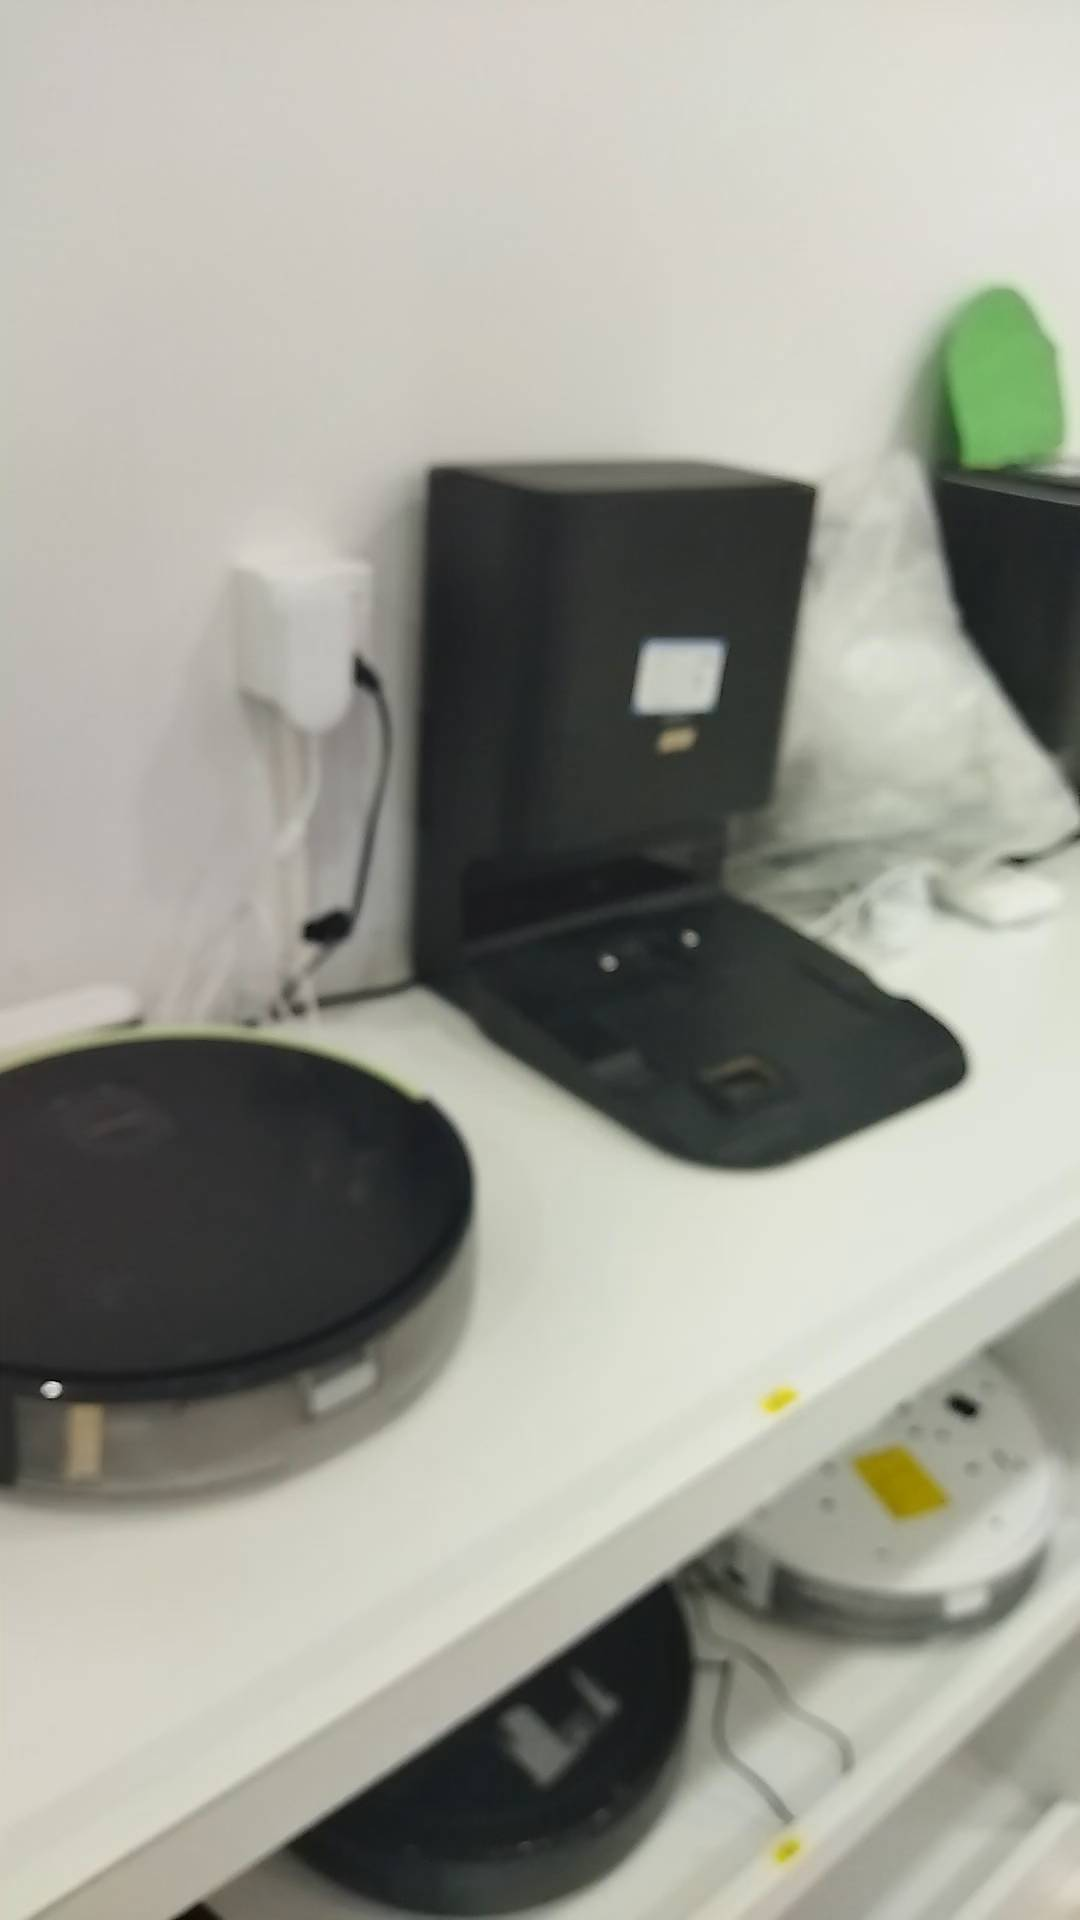dust collecting barrel: (421, 458, 971, 1174)
